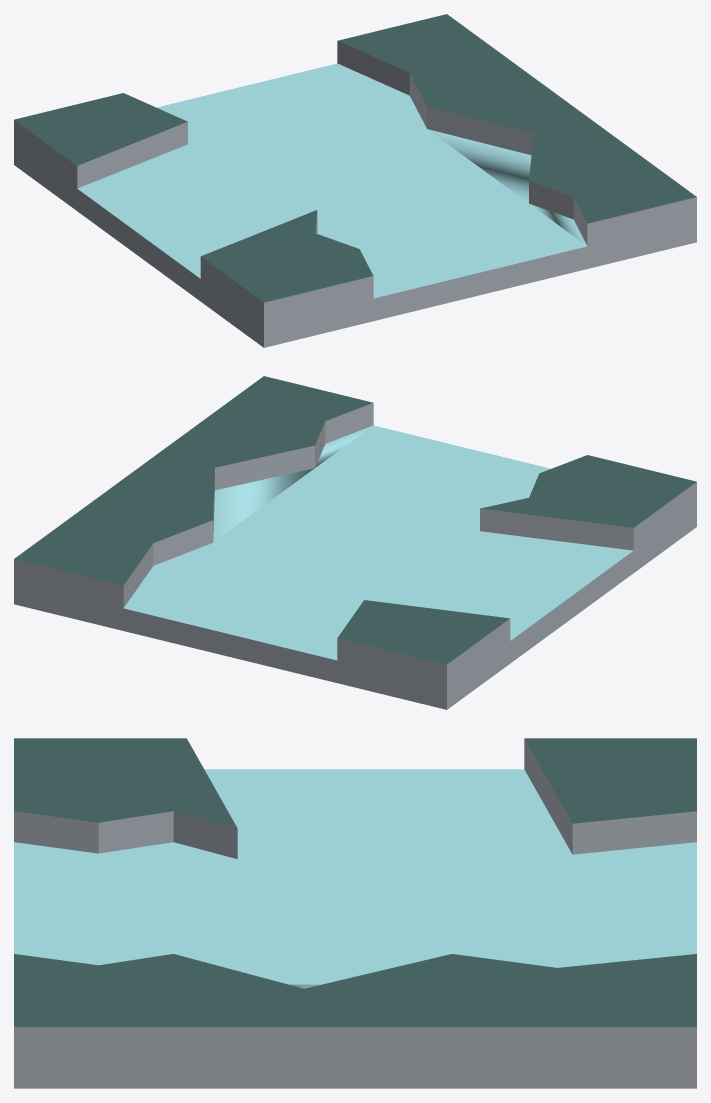
Rendered from naturePack_057.obj.
The picture shows the model from 3 angles, top to bottom: view 1: azimuth 30°, elevation 25°; view 2: azimuth 150°, elevation 25°; view 3: azimuth 270°, elevation 25°; orthographic projection. The views are drawn at different scales.
Parts seen in each view (by area): view 1: Mesh1_Plate_River_Dirt_Model.001; view 2: Mesh1_Plate_River_Dirt_Model.001; view 3: Mesh1_Plate_River_Dirt_Model.001.
Boxes of the visible parts, bbox=[...] form: Mesh1_Plate_River_Dirt_Model.001: bbox=[14, 14, 696, 347]; Mesh1_Plate_River_Dirt_Model.001: bbox=[14, 376, 696, 709]; Mesh1_Plate_River_Dirt_Model.001: bbox=[14, 738, 696, 1088].
Bounding box in the file's own units: 3 × 0.3 × 3.
